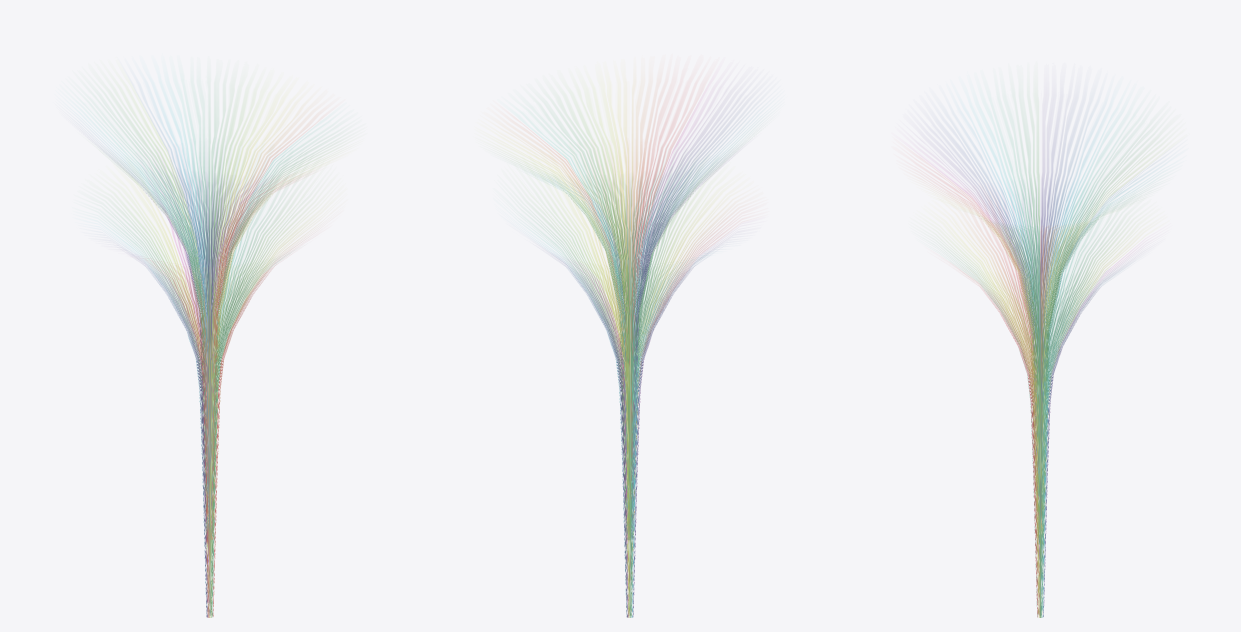
The model's file is ThirdPersonExampleMap.gltf.
3 renders of one model, left to right at view 1: azimuth 30°, elevation 25°; view 2: azimuth 150°, elevation 25°; view 3: azimuth 270°, elevation 25°, orthographic. The views are drawn at different scales.
Visible parts, largest first — view 1: sm_TREE_2_StaticMeshComponent0; view 2: sm_TREE_2_StaticMeshComponent0; view 3: sm_TREE_2_StaticMeshComponent0.
Part boxes in pixels (left/top/right/bottom): sm_TREE_2_StaticMeshComponent0: left=99, top=98, right=325, bottom=617; sm_TREE_2_StaticMeshComponent0: left=517, top=95, right=738, bottom=617; sm_TREE_2_StaticMeshComponent0: left=931, top=113, right=1149, bottom=617.
Size of the model in its own units: 2.18 by 3.41 by 2.19.
Materials: 1 (1 with a texture image).
